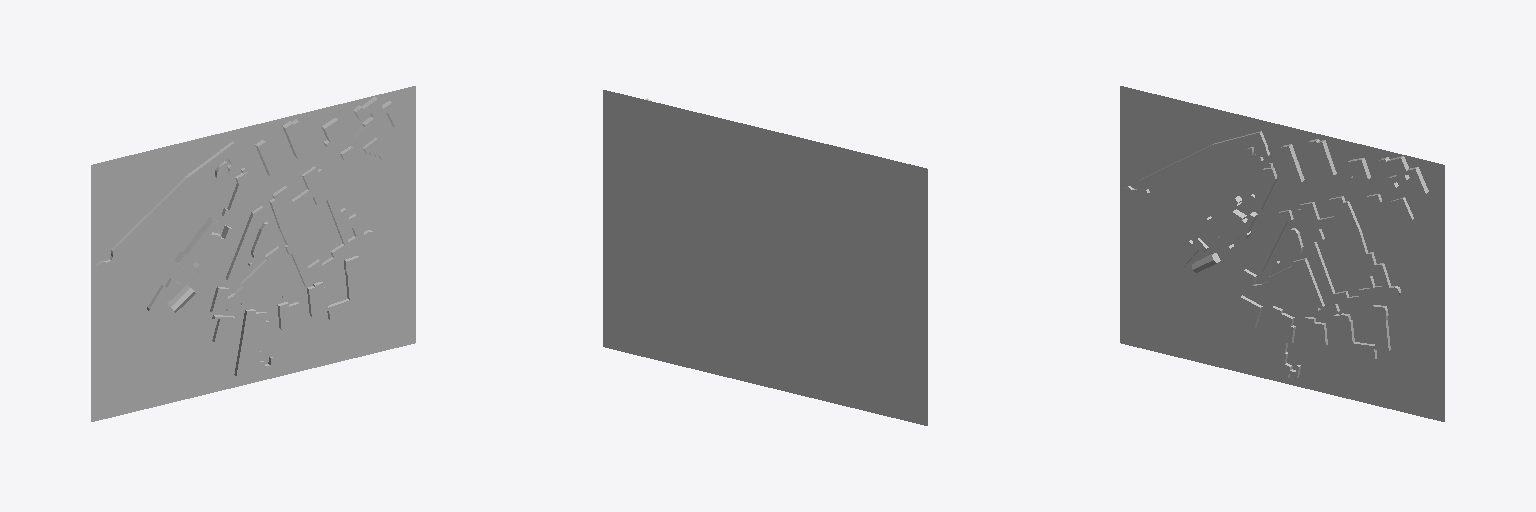
File: kth_small_correct.obj
3 renders of one model, left to right at view 1: azimuth 30°, elevation 25°; view 2: azimuth 150°, elevation 25°; view 3: azimuth 330°, elevation 25°, orthographic.
Size of the model in its own units: 0.5386 by 0.4079 by 0.015.